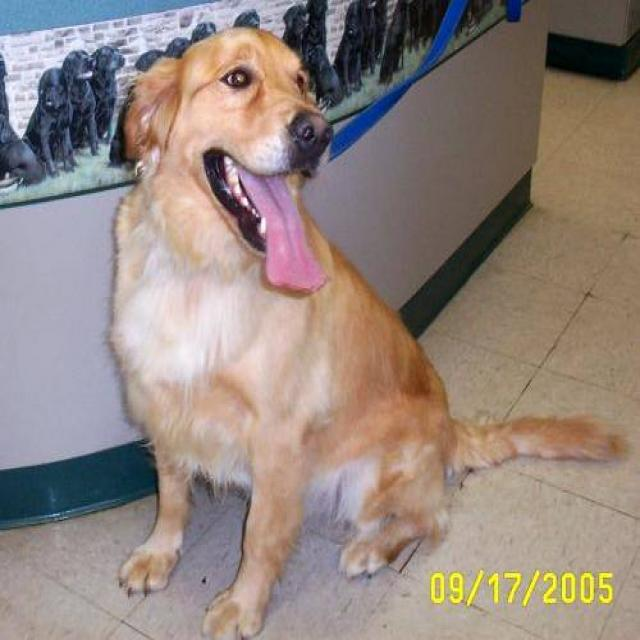dog: (80, 26, 640, 640)
